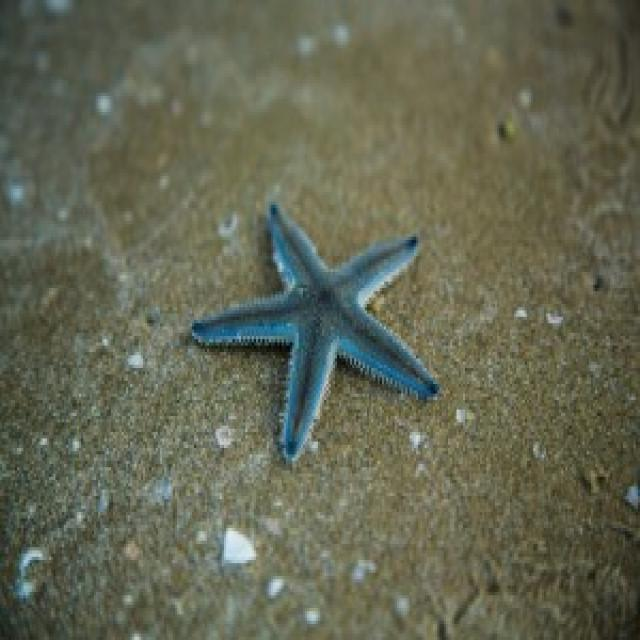Starfish: (185, 183, 449, 463)
